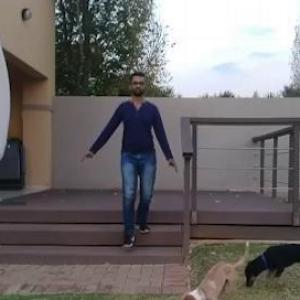land: (91, 79, 178, 240)
